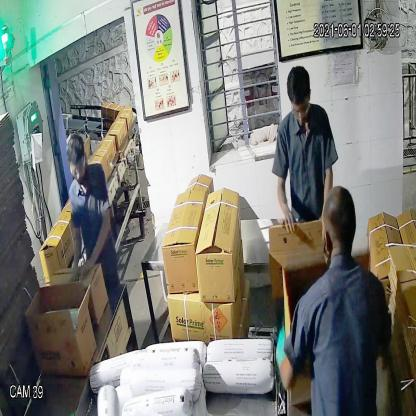goggles: (289, 96, 312, 122), (69, 157, 90, 180)
